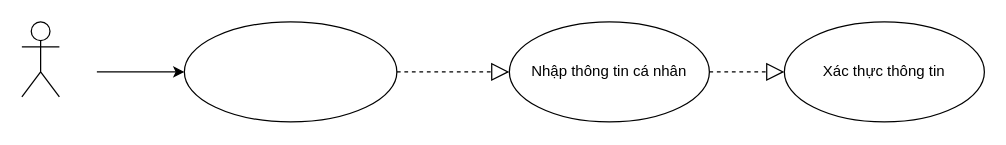
This 1006x145 diagram has some shape labels left out. The shapes that lost their labels are listed below. From the top down, each one's centre as x and y in pixels, then its label:
At (40,59): "User".
At (290,71): "Đăng ký tài khoản".
